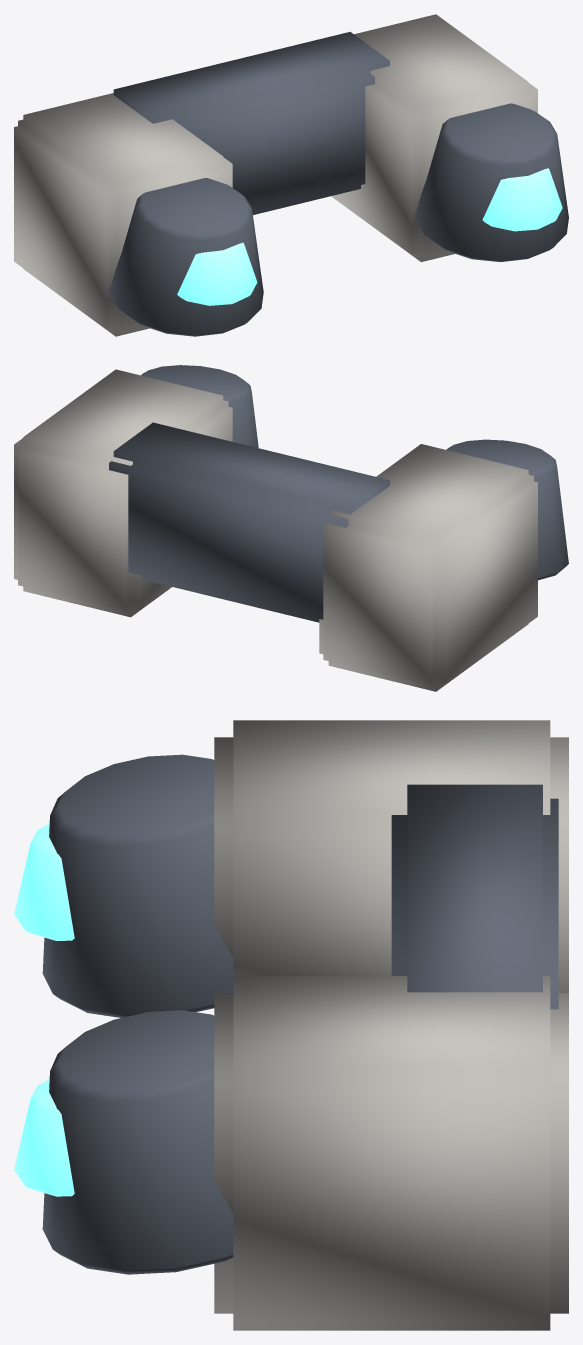
The model's file is thruster.glb.
3 renders of one model, top to bottom at view 1: azimuth 30°, elevation 25°; view 2: azimuth 150°, elevation 25°; view 3: azimuth 270°, elevation 25°, orthographic. The views are drawn at different scales.
Visible parts, largest first — view 1: thruster; view 2: thruster; view 3: thruster.
Boxes of the visible parts, x1,y1,x2,y2 form: thruster: [14, 14, 568, 336]; thruster: [14, 365, 568, 691]; thruster: [14, 720, 568, 1330].
Bounding box in the file's own units: 0.8369 × 0.29 × 0.5323.
